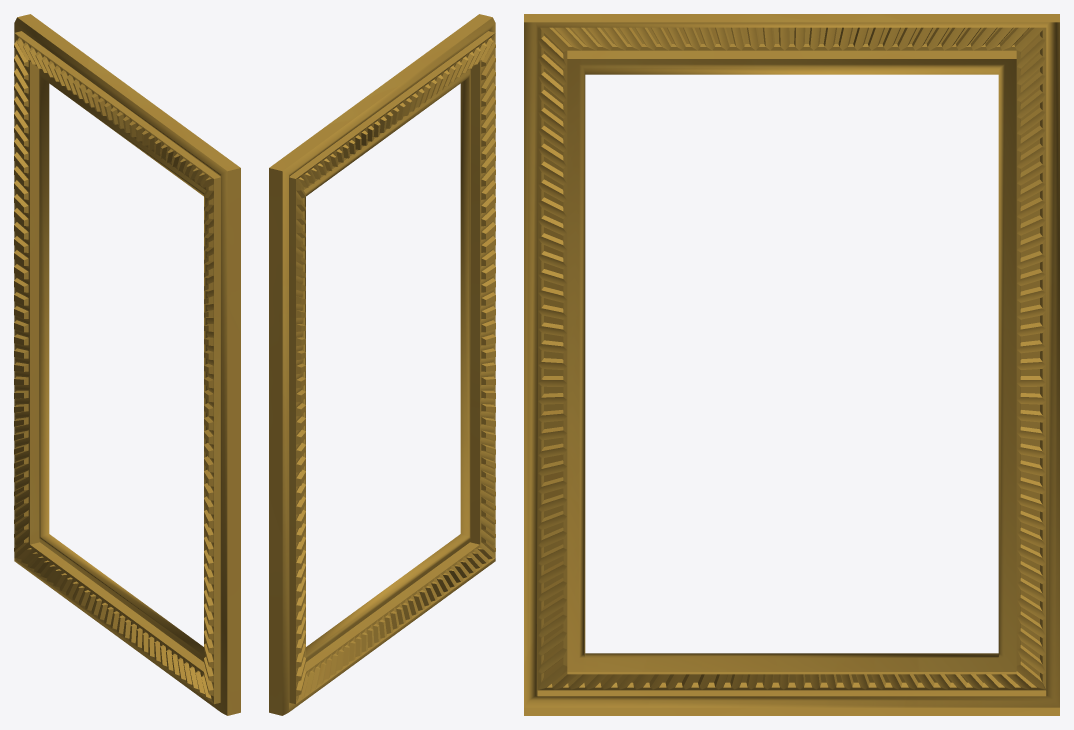
The model's file is SM_Picture_Frame_01.fbx.
3 views of the same model, side by side, from view 1: azimuth 30°, elevation 25°; view 2: azimuth 150°, elevation 25°; view 3: azimuth 270°, elevation 25° (orthographic). The views are drawn at different scales.
Visible parts, largest first — view 1: pCube6, pCube5; view 2: pCube6, pCube5; view 3: pCube5, pCube6.
Boxes of the visible parts, x1,y1,x2,y2 form: pCube6: (14,31,220,704); pCube5: (14,14,240,715); pCube6: (289,31,495,704); pCube5: (269,14,495,715); pCube5: (524,14,1059,715); pCube6: (537,27,1046,696).
Size of the model in its own units: 4.68 by 100 by 70.
